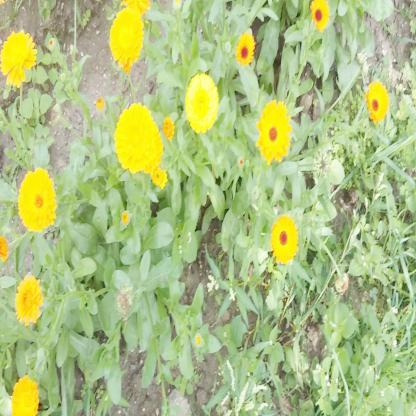marigold: (115, 105, 158, 174), (18, 172, 53, 232), (258, 101, 290, 161), (111, 7, 142, 68), (187, 74, 218, 132), (1, 30, 34, 84), (272, 216, 299, 264), (15, 279, 42, 325), (11, 375, 38, 415), (365, 82, 389, 123), (236, 32, 255, 67), (312, 1, 330, 31)
